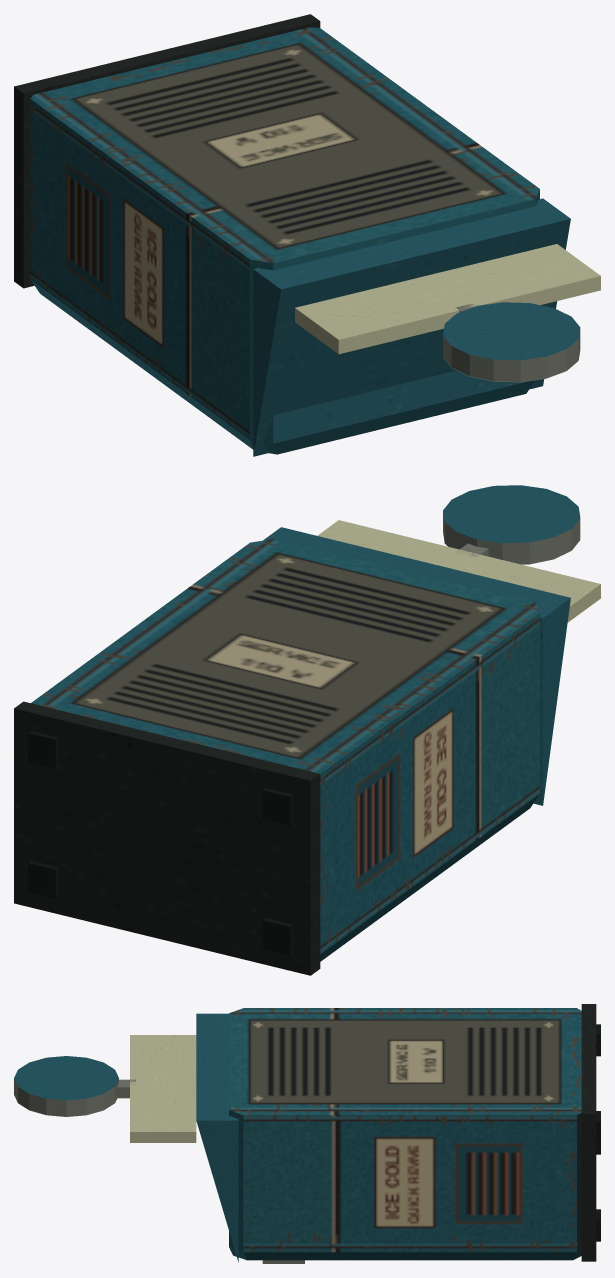
File: quickrevive.obj
3 renders of one model, top to bottom at view 1: azimuth 30°, elevation 25°; view 2: azimuth 150°, elevation 25°; view 3: azimuth 270°, elevation 25°, orthographic. The views are drawn at different scales.
Visible parts, largest first — view 1: rear_service_panel, cabinet_shell, sloped_top, nameboard, round_perk_sign, base_plinth, cabinet_bevel; view 2: rear_service_panel, base_plinth, cabinet_shell, round_perk_sign, sloped_top, nameboard, rubber_foot, cabinet_bevel; view 3: cabinet_shell, rear_service_panel, nameboard, sloped_top, round_perk_sign, base_plinth, cabinet_bevel, rubber_foot.
Boxes of the visible parts, left/top/right/bottom form: rear_service_panel: left=30, top=27, right=539, bottom=263; cabinet_shell: left=30, top=99, right=539, bottom=443; sloped_top: left=253, top=198, right=570, bottom=456; nameboard: left=295, top=244, right=600, bottom=354; round_perk_sign: left=443, top=302, right=580, bottom=382; base_plinth: left=14, top=14, right=320, bottom=288; cabinet_bevel: left=30, top=279, right=534, bottom=454; rear_service_panel: left=31, top=539, right=539, bottom=773; base_plinth: left=14, top=701, right=320, bottom=975; cabinet_shell: left=320, top=613, right=539, bottom=954; round_perk_sign: left=443, top=485, right=580, bottom=564; sloped_top: left=263, top=527, right=570, bottom=805; nameboard: left=317, top=520, right=600, bottom=622; rubber_foot: left=28, top=730, right=293, bottom=955; cabinet_bevel: left=320, top=794, right=539, bottom=961; cabinet_shell: left=229, top=1110, right=581, bottom=1252; rear_service_panel: left=229, top=1008, right=581, bottom=1115; nameboard: left=130, top=1035, right=196, bottom=1142; sloped_top: left=196, top=1013, right=238, bottom=1262; round_perk_sign: left=14, top=1056, right=118, bottom=1116; base_plinth: left=581, top=1004, right=596, bottom=1261; cabinet_bevel: left=229, top=1247, right=581, bottom=1260; rubber_foot: left=596, top=1024, right=600, bottom=1241.
Size of the model in its own units: 43 by 30.5 by 97.2.
4 materials, 4 textured.
